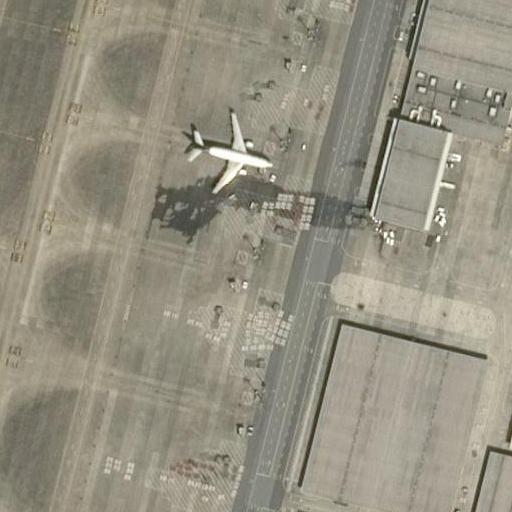Aircraft: (182, 108, 272, 193)
